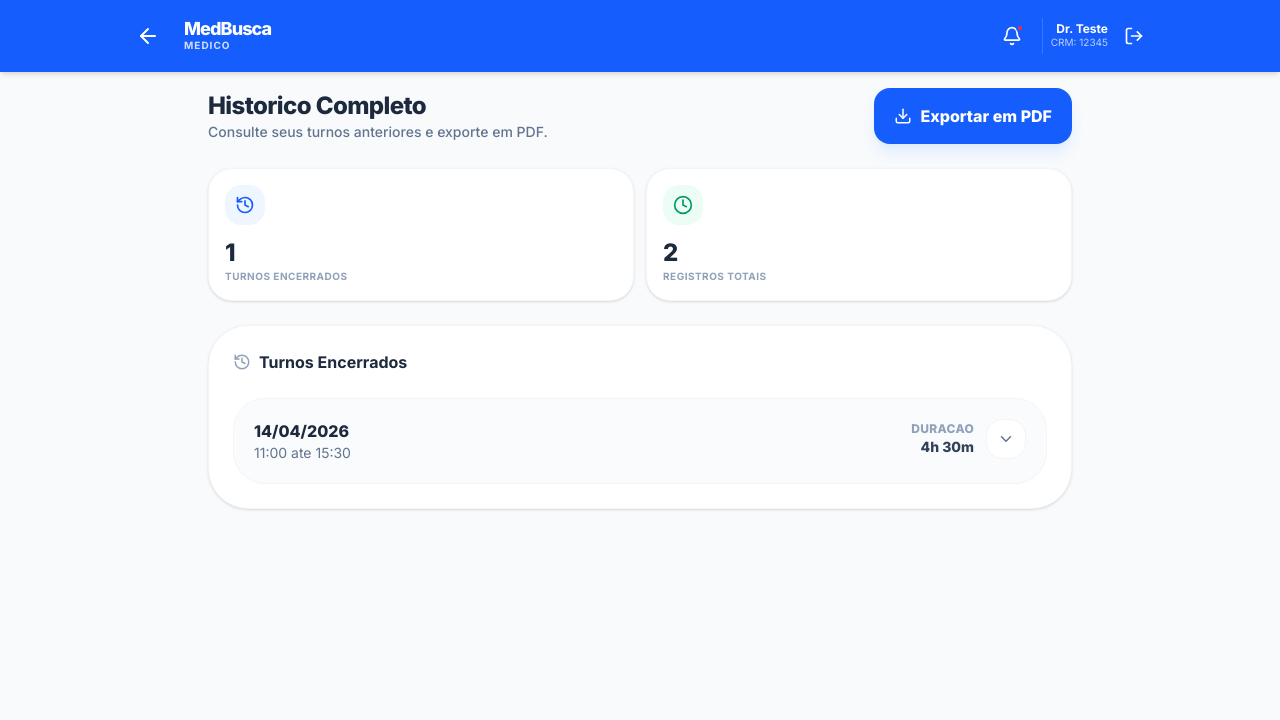
DoctorHistoryPage › carrega o historico completo e expande os registros
The width and height of the screenshot is (1280, 720).
Check: the heading "Historico Completo" is shown, box 208,91 -> 426,120
Check: the text "4h 30m" is shown, box 911,437 -> 974,457
What coordinates should you click on to do the following:
click the text "14/04/2026"
I would click on:
 (302, 431)
Its box is 254,419 -> 351,443.
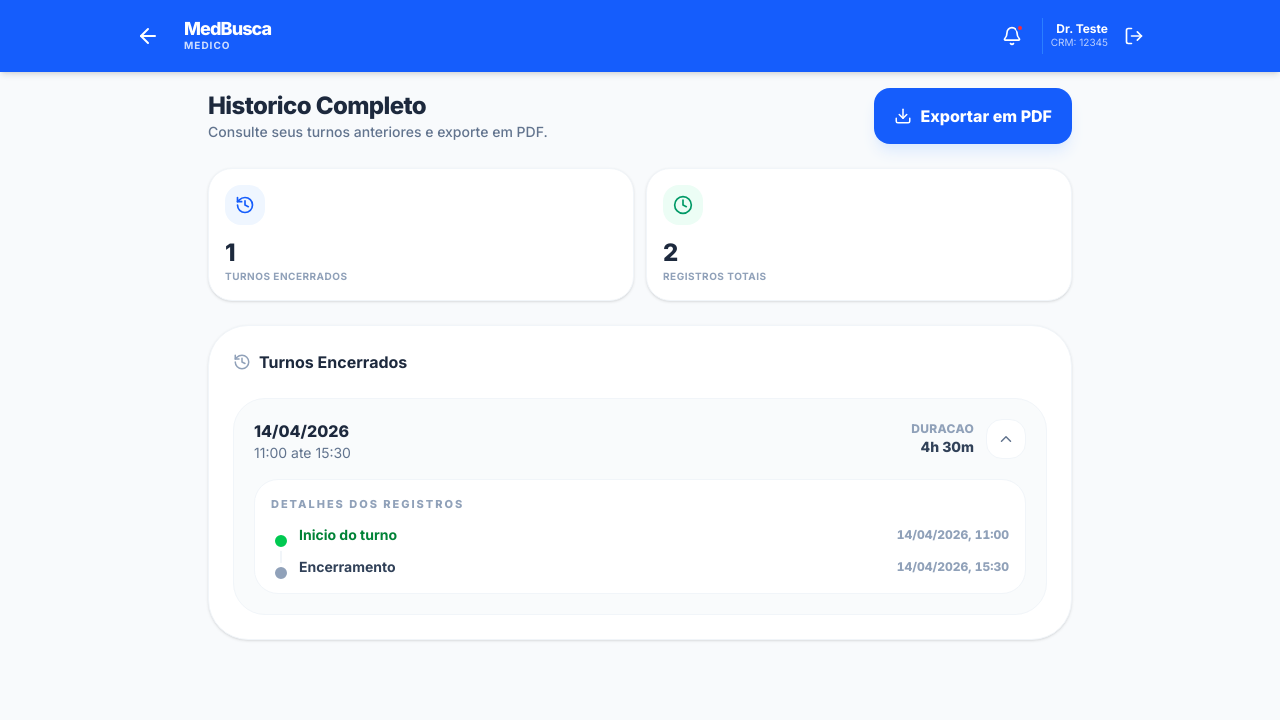
Check: the text "Detalhes dos registros" is shown, box 271,497 -> 464,511
Check: the text "Inicio do turno" is shown, box 299,524 -> 397,544
Check: the text "Encerramento" is shown, box 299,556 -> 396,576
